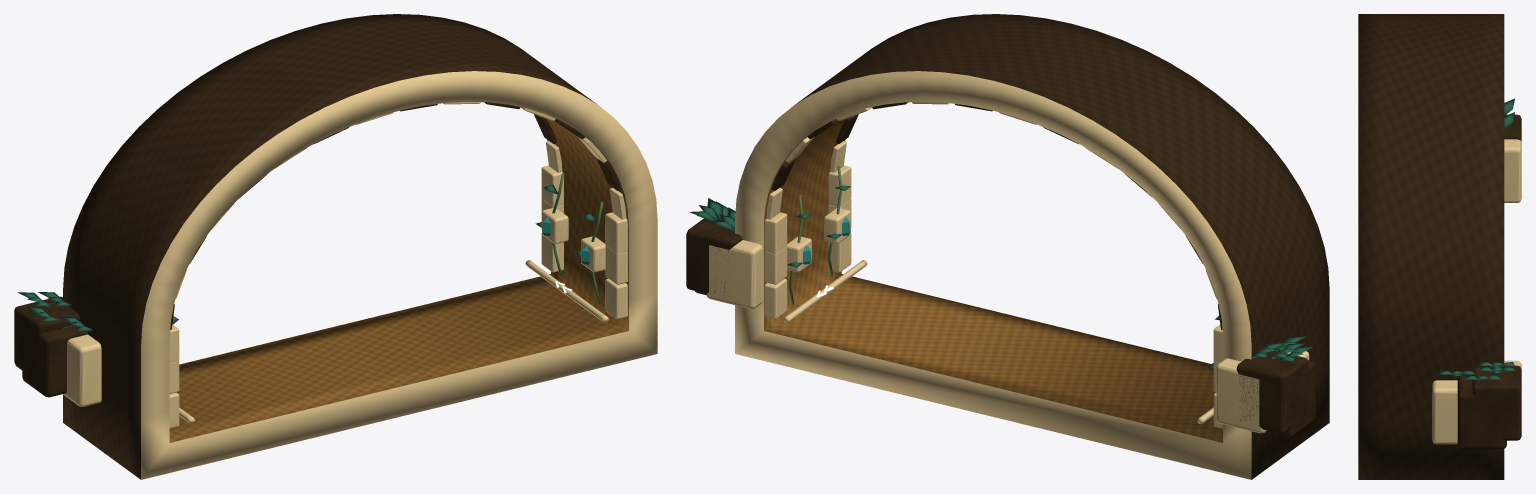
Rendered from portal_exit.glb.
3 renders of one model, left to right at view 1: azimuth 30°, elevation 25°; view 2: azimuth 150°, elevation 25°; view 3: azimuth 270°, elevation 25°, orthographic. The views are drawn at different scales.
Visible parts, largest first — view 1: TunnelGeometry; view 2: TunnelGeometry; view 3: TunnelGeometry.
Boxes of the visible parts, x1,y1,x2,y2 form: TunnelGeometry: (14,14,657,479); TunnelGeometry: (686,14,1329,479); TunnelGeometry: (1358,14,1521,479).
Size of the model in its own units: 17.75 by 9.52 by 4.48.
7 materials, 2 textured.
